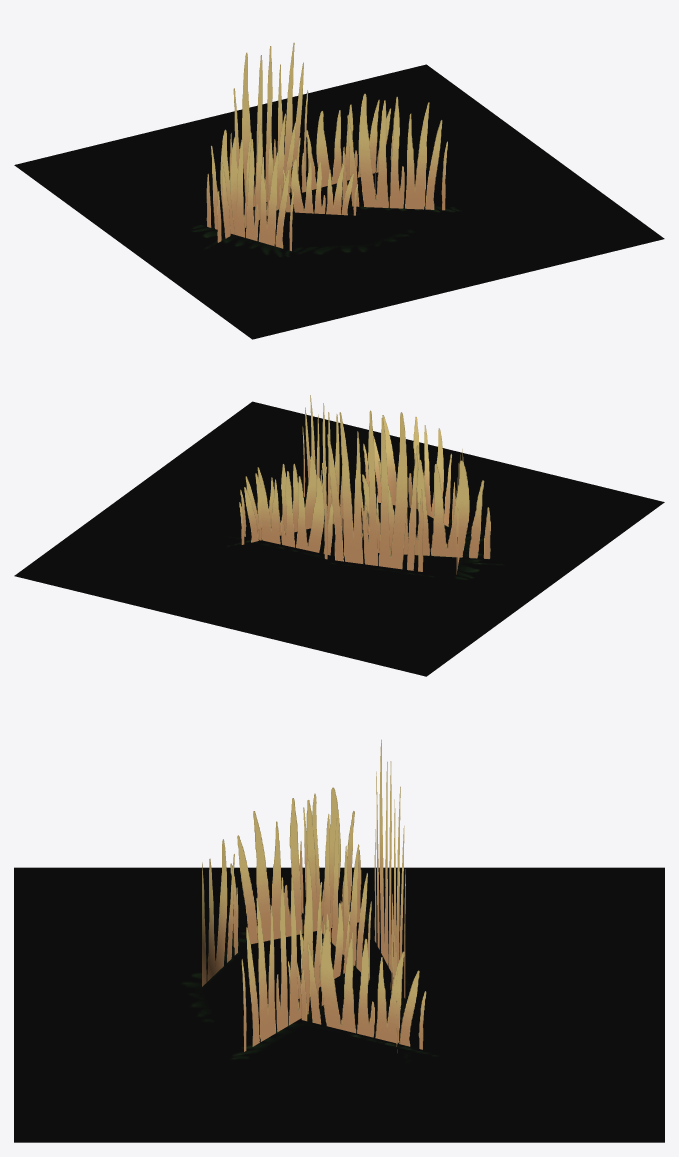
File: SM_Env_DeathGreen3.fbx
3 renders of one model, top to bottom at view 1: azimuth 30°, elevation 25°; view 2: azimuth 150°, elevation 25°; view 3: azimuth 270°, elevation 25°, orthographic. The views are drawn at different scales.
Parts seen in each view (by area): view 1: SM_Env_DeathGreen3; view 2: SM_Env_DeathGreen3; view 3: SM_Env_DeathGreen3.
Boxes of the visible parts, x1=… form: SM_Env_DeathGreen3: x1=14, y1=42, x2=664, y2=339; SM_Env_DeathGreen3: x1=14, y1=395, x2=664, y2=676; SM_Env_DeathGreen3: x1=14, y1=739, x2=664, y2=1142.
Size of the model in its own units: 134 by 52.73 by 134.
